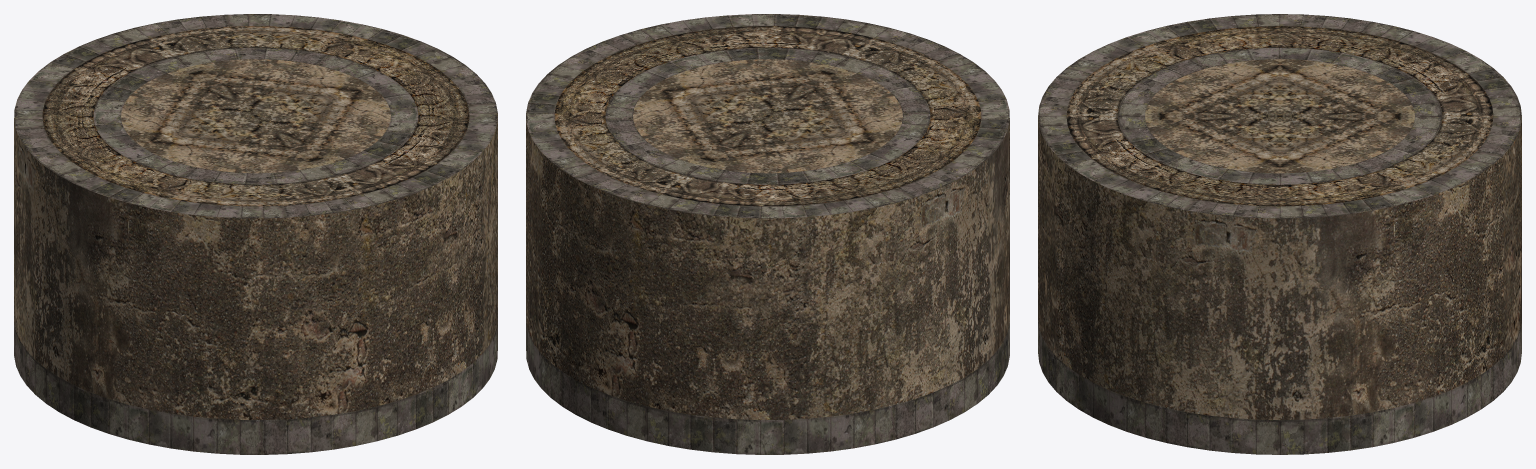
Rendered from materials_5_pillar_fat_11.fbx.
The picture shows the model from 3 angles, left to right: view 1: azimuth 30°, elevation 25°; view 2: azimuth 150°, elevation 25°; view 3: azimuth 270°, elevation 25°; orthographic projection.
Parts seen in each view (by area): view 1: materials_5_pillar_fat_11; view 2: materials_5_pillar_fat_11; view 3: materials_5_pillar_fat_11.
Part boxes in pixels (x1,y1,x2,y2): materials_5_pillar_fat_11: (14, 14, 497, 454); materials_5_pillar_fat_11: (526, 14, 1009, 454); materials_5_pillar_fat_11: (1038, 14, 1521, 454).
Size of the model in its own units: 135 by 72.61 by 135.
